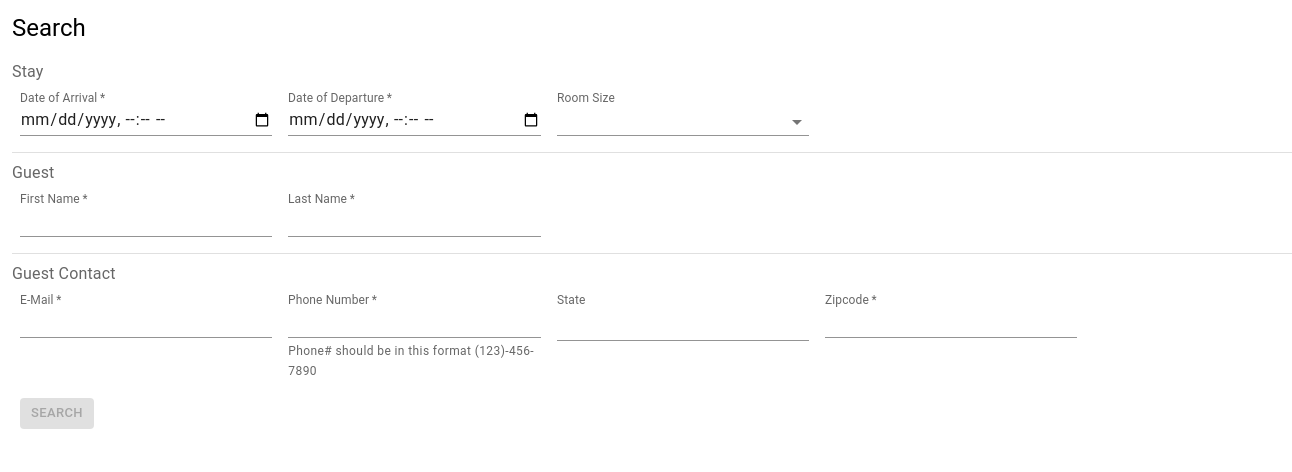
Reservation page › should validate first name
In the field with test id "first-name": (146, 222) 20,208 -> 272,237, type "test-first-name-test-first-name-test-first-name-test-first-name"
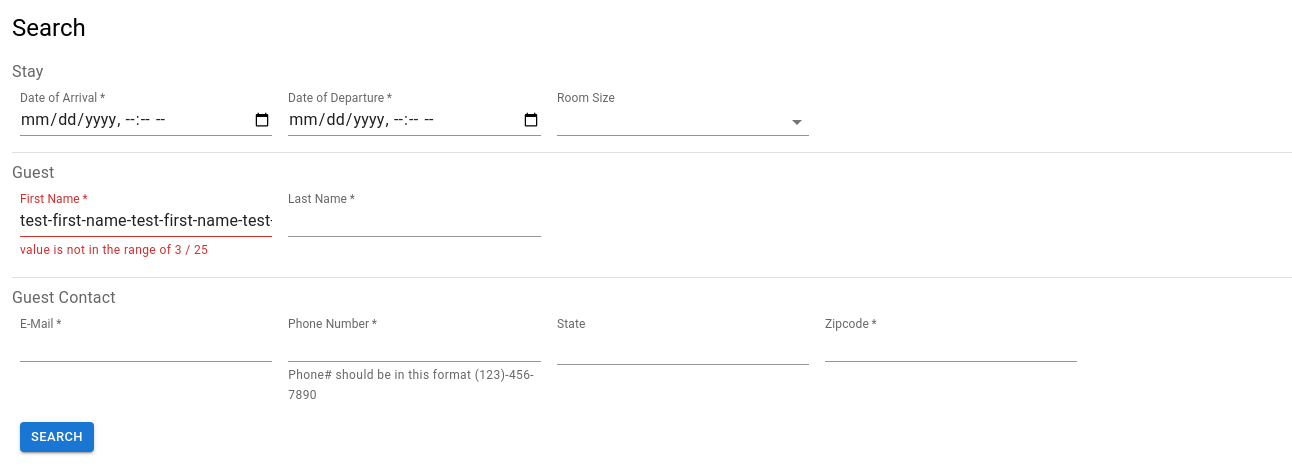
Check: the text "value is not in the range of 3 / 25" is shown, box 20,243 -> 208,257
